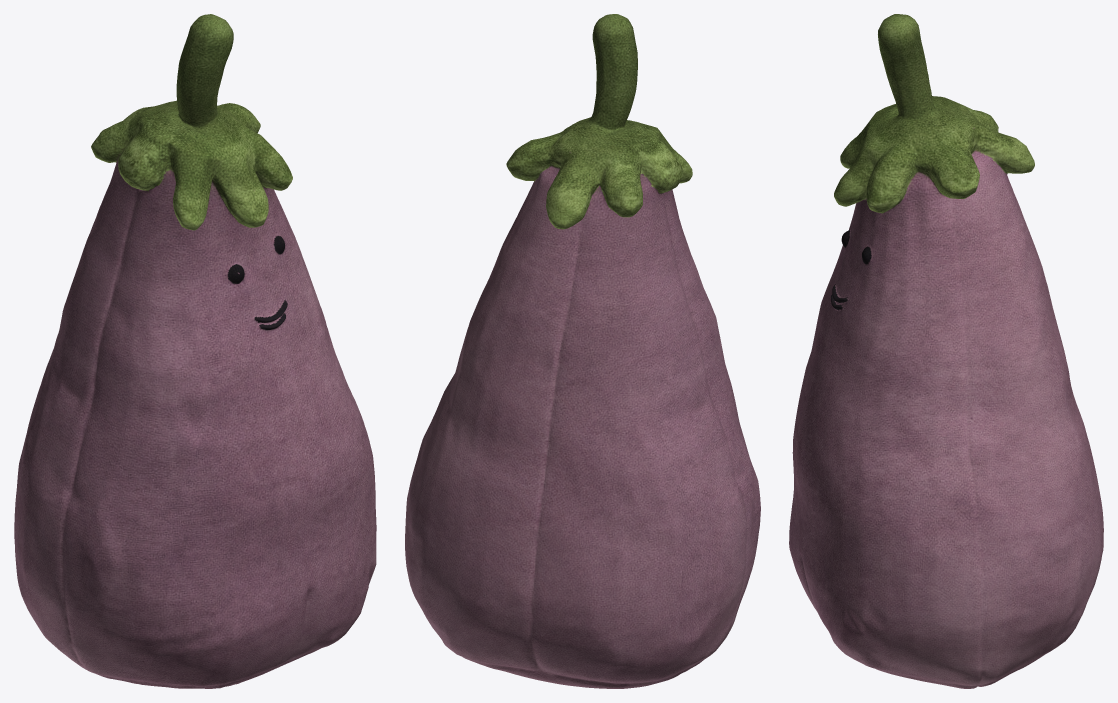
The model's file is aubergine_standard.glb.
3 renders of one model, left to right at view 1: azimuth 30°, elevation 25°; view 2: azimuth 150°, elevation 25°; view 3: azimuth 270°, elevation 25°, orthographic. The views are drawn at different scales.
Size of the model in its own units: 0.4546 by 0.8948 by 0.4057.
1 material, 1 textured.
